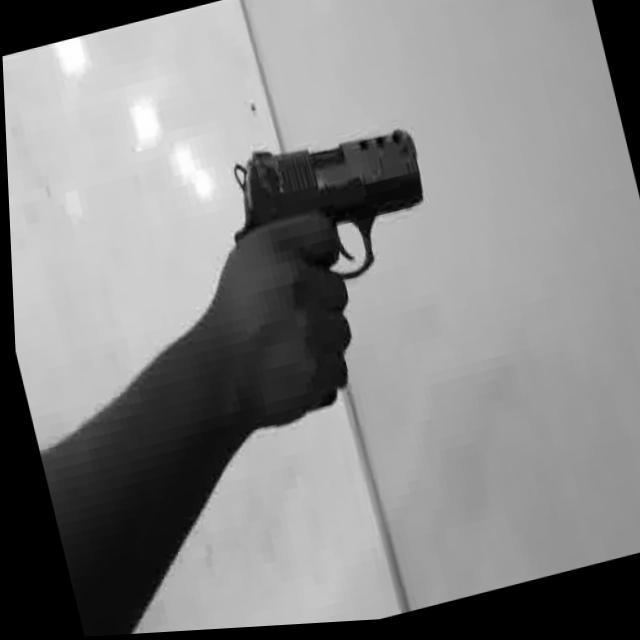weapon: (208, 114, 442, 315)
